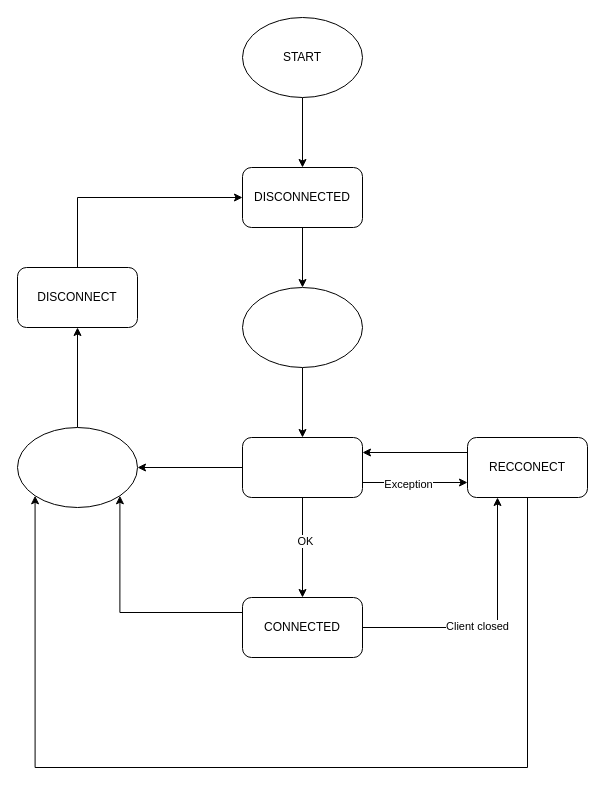
Image size: 605x793. Some labels were removed from this diagram. Here are the shapes that lost their labels. From the top down, the centre of each, then its label:
At point (302, 327): "RoleChange == LEADER".
At point (77, 467): "RoleChange != LEADER".
At point (302, 467): "CONNECT".
